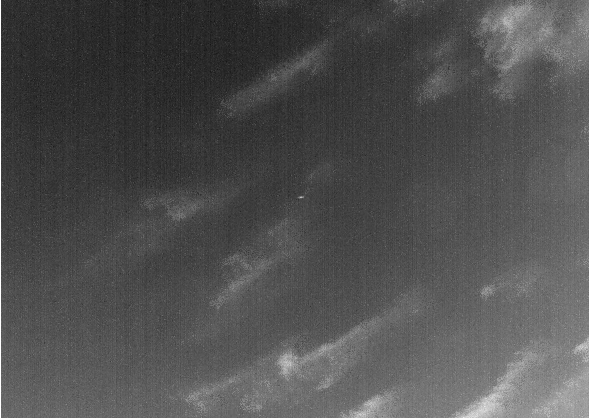dim target: (296, 193, 306, 201)
